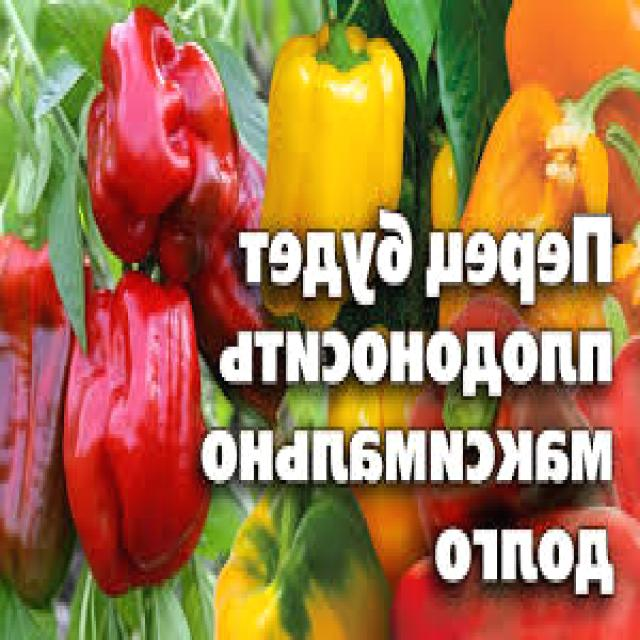carrot: (440, 59, 626, 334), (62, 258, 210, 596), (250, 26, 414, 321), (262, 3, 410, 304), (86, 12, 241, 280), (395, 321, 622, 496), (378, 489, 640, 640), (0, 231, 95, 610), (206, 458, 391, 640), (474, 0, 640, 147)
